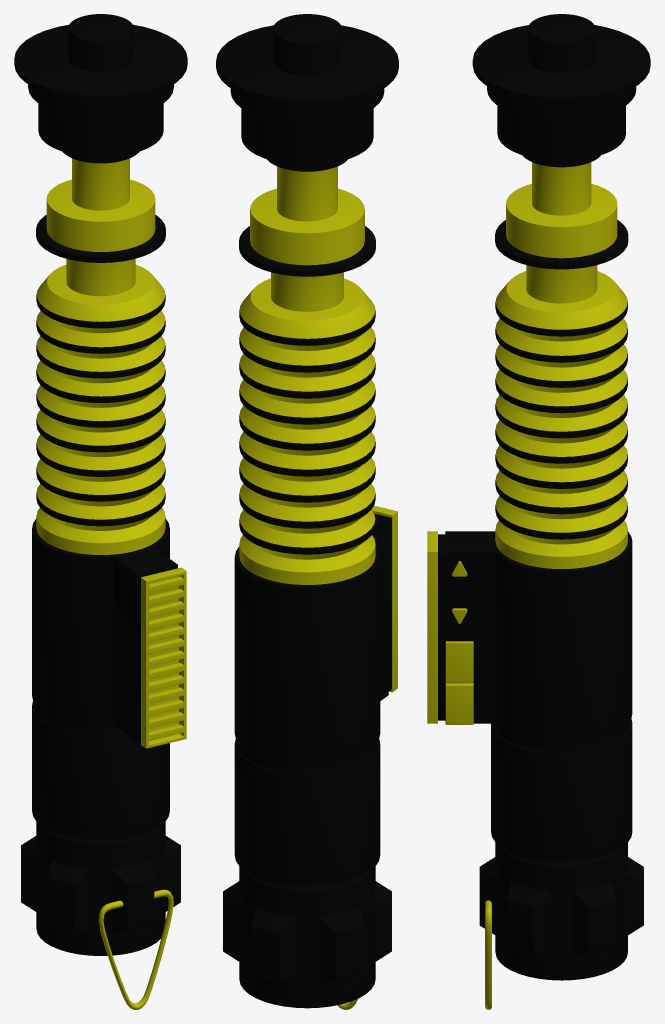
File: LightsaberScaline.gltf
The picture shows the model from 3 angles, left to right: view 1: azimuth 30°, elevation 25°; view 2: azimuth 150°, elevation 25°; view 3: azimuth 270°, elevation 25°; orthographic projection. The views are drawn at different scales.
Visible parts, largest first — view 1: Lightsaber; view 2: Lightsaber; view 3: Lightsaber.
Part boxes in pixels (x1,y1,x2,y2): Lightsaber: [14, 14, 187, 1009]; Lightsaber: [216, 14, 398, 1009]; Lightsaber: [427, 14, 650, 1009].
Bounding box in the file's own units: 0.1021 × 0.6208 × 0.1281.
Materials: 4 (4 with a texture image).
